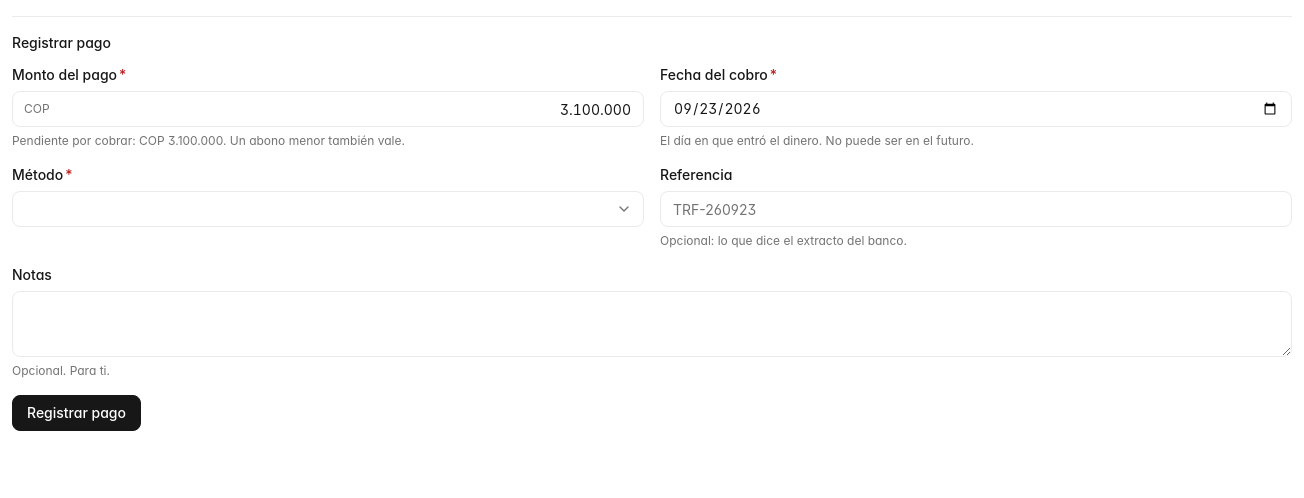
Scenario: RegistrarPagoForm › el conflicto de un envío repetido se anuncia arriba, con su explicación
Click the button "Registrar pago" at (76, 413), box [12,395,141,431]
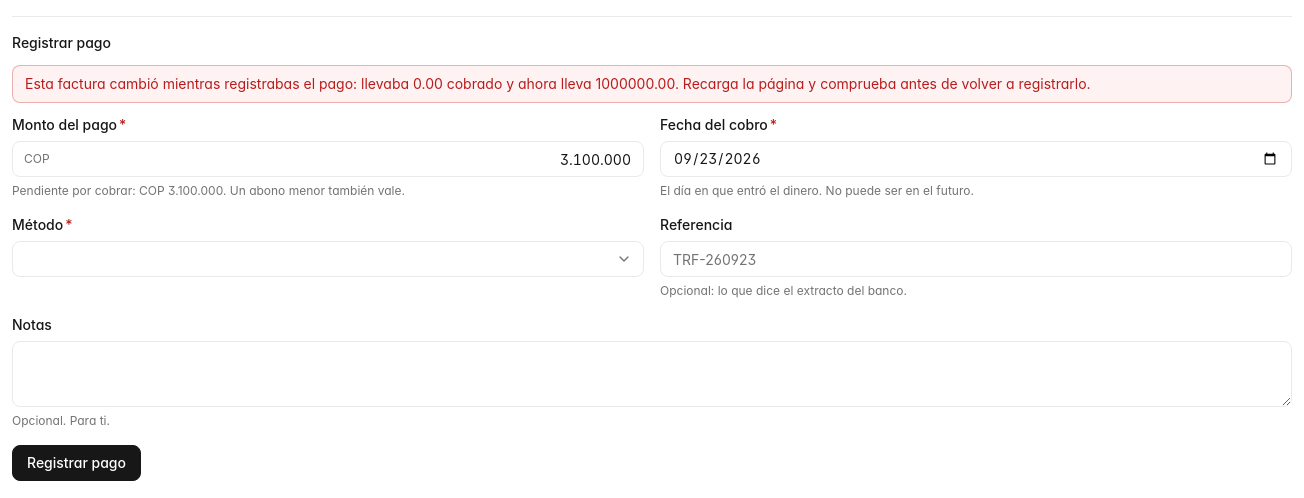
Expected: the message shows "Recarga la página", [25,75,1091,92]
